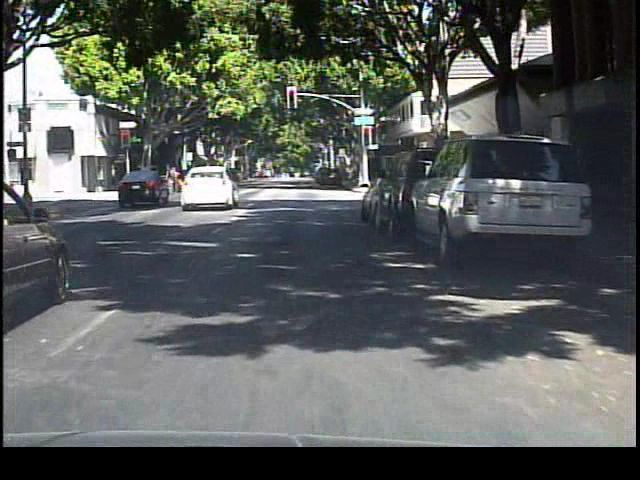person: (167, 162, 183, 201)
